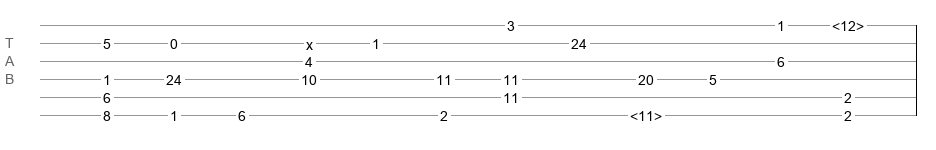0: (170, 36, 178, 46)
1: (103, 72, 111, 82), (170, 108, 178, 118), (372, 36, 380, 46), (777, 18, 785, 28)
10: (301, 72, 317, 82)
11: (436, 72, 452, 82), (503, 72, 519, 82), (503, 90, 519, 100)
2: (440, 108, 448, 118), (844, 90, 852, 100), (844, 108, 852, 118)
20: (638, 72, 654, 82)
24: (166, 72, 182, 82), (571, 36, 587, 46)
3: (507, 18, 515, 28)
4: (305, 54, 313, 64)
5: (103, 36, 111, 46), (709, 72, 717, 82)
6: (103, 90, 111, 100), (238, 108, 246, 118), (777, 54, 785, 64)
8: (103, 108, 111, 118)
harmonic: (630, 108, 662, 118), (832, 18, 864, 28)
x: (306, 37, 313, 45)
